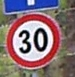limite 30: (4, 11, 61, 69)
